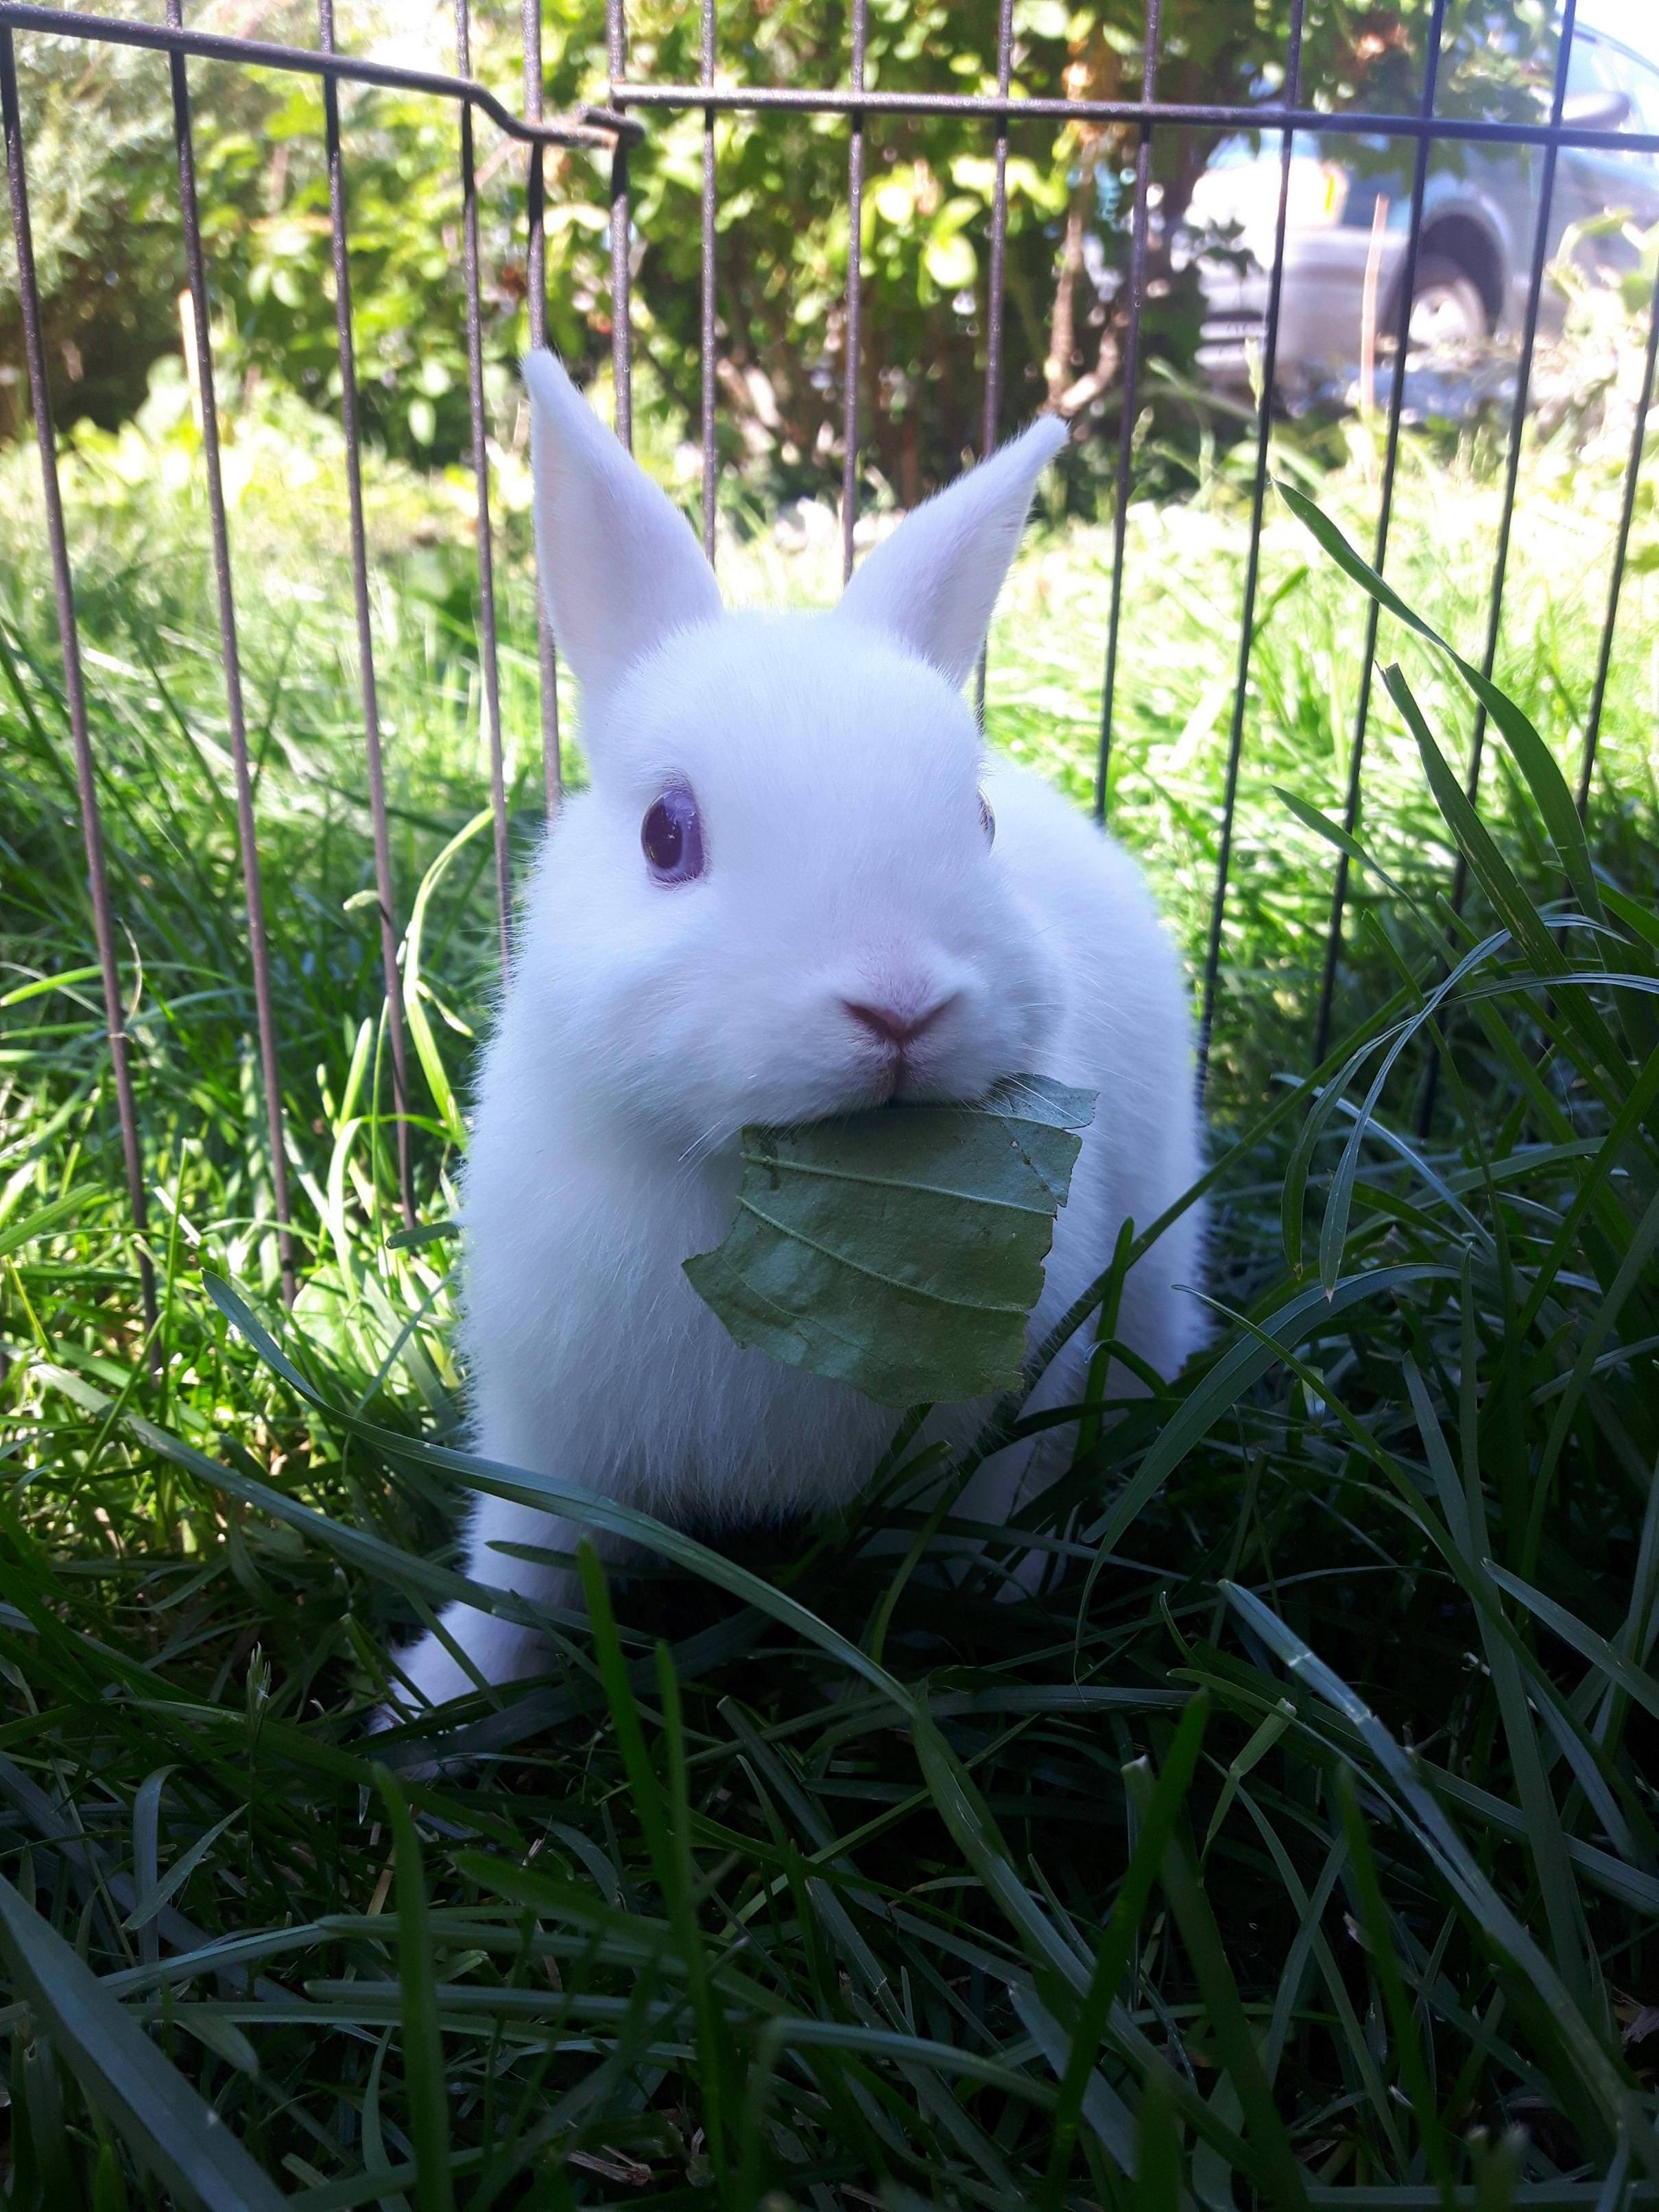bunny: (338, 279, 1298, 1750)
